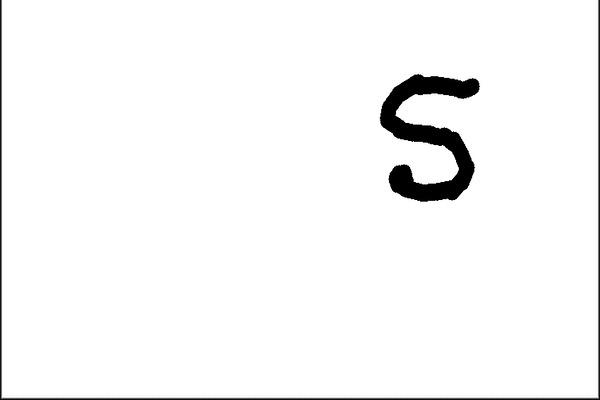S: (376, 65, 484, 206)
